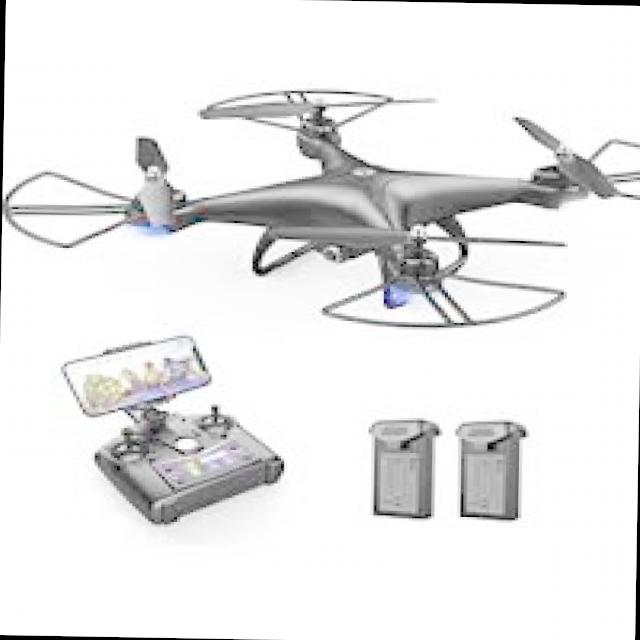drone: (0, 46, 640, 346)
